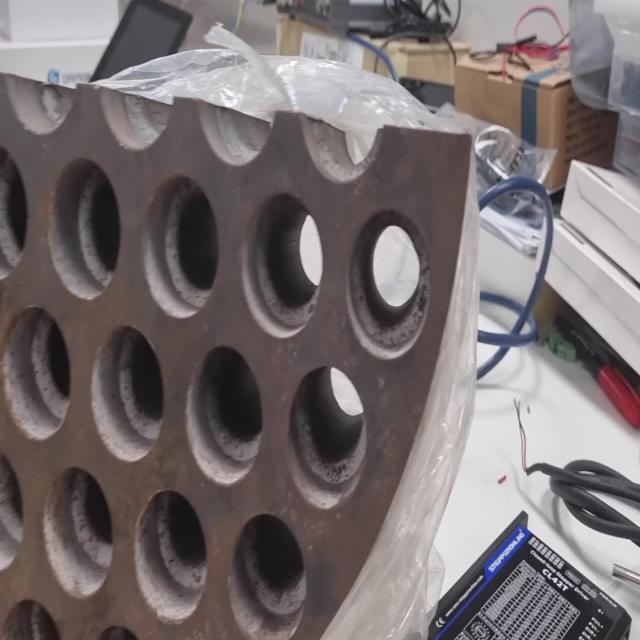Hole: (345, 207, 431, 360), (240, 192, 324, 338), (142, 172, 220, 320), (288, 364, 367, 510), (184, 343, 264, 487), (48, 156, 122, 300), (90, 323, 165, 462), (134, 487, 208, 624), (228, 512, 307, 640), (0, 304, 72, 441), (42, 464, 114, 599)
